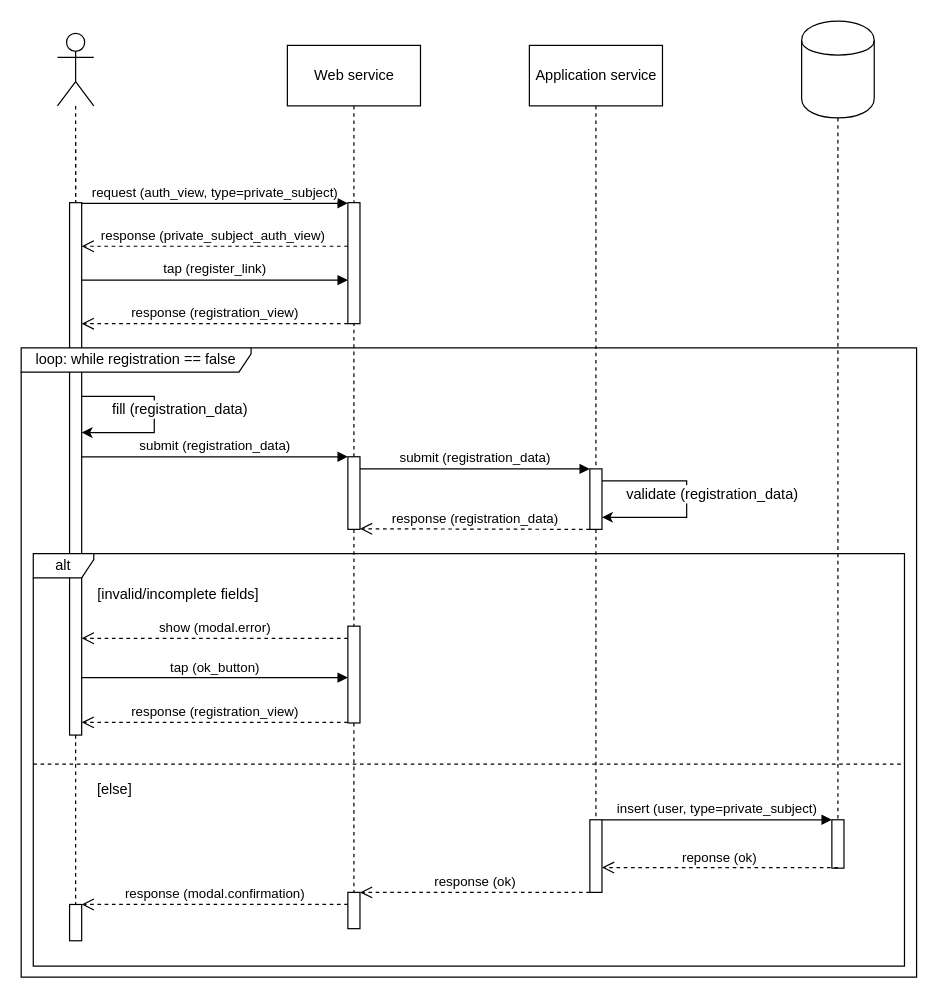
This 938x998 diagram has some shape labels left out. The shapes that lost their labels are listed below. From the top down, each one's centre as x and y in pixels, then its label:
At [75,69]: "User".
At [837,69]: "Database Service".
